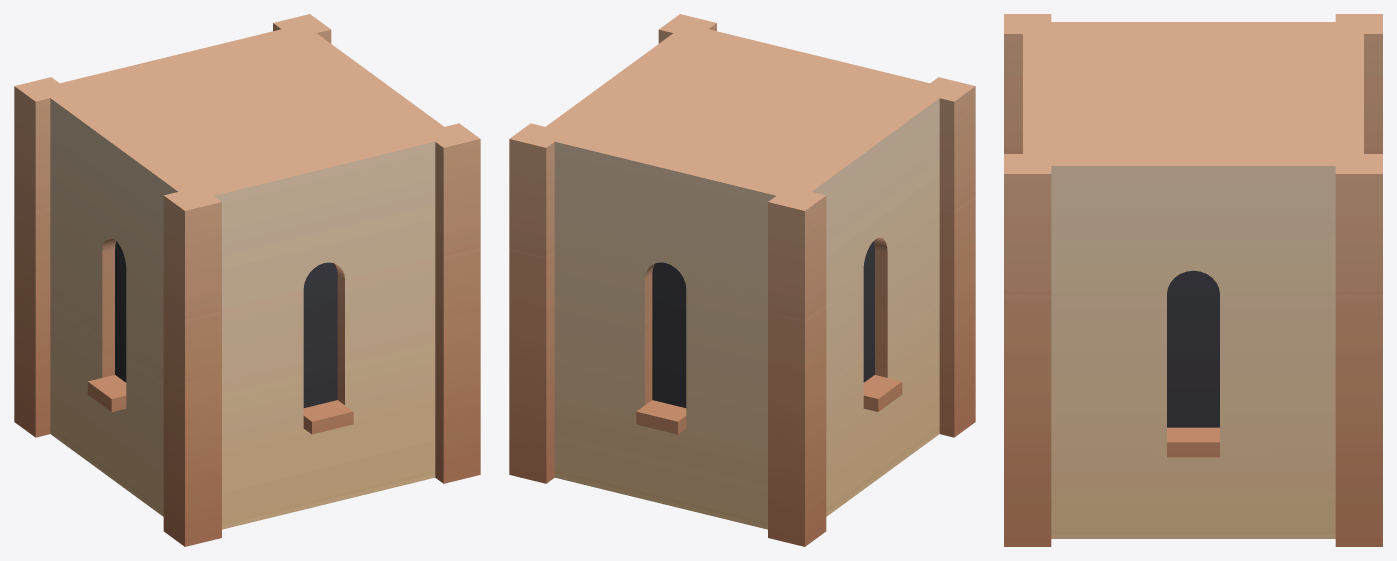
The model's file is p-castle-tower-square-mid-windows.glb.
The picture shows the model from 3 angles, left to right: view 1: azimuth 30°, elevation 25°; view 2: azimuth 150°, elevation 25°; view 3: azimuth 270°, elevation 25°; orthographic projection. The views are drawn at different scales.
Visible parts, largest first — view 1: tower-square-mid-windows; view 2: tower-square-mid-windows; view 3: tower-square-mid-windows.
Boxes of the visible parts, left/top/right/bottom form: tower-square-mid-windows: left=14, top=14, right=480, bottom=546; tower-square-mid-windows: left=509, top=14, right=975, bottom=546; tower-square-mid-windows: left=1004, top=14, right=1382, bottom=546.
Size of the model in its own units: 0.93 by 1.01 by 0.93.
Materials: 1 (1 with a texture image).
